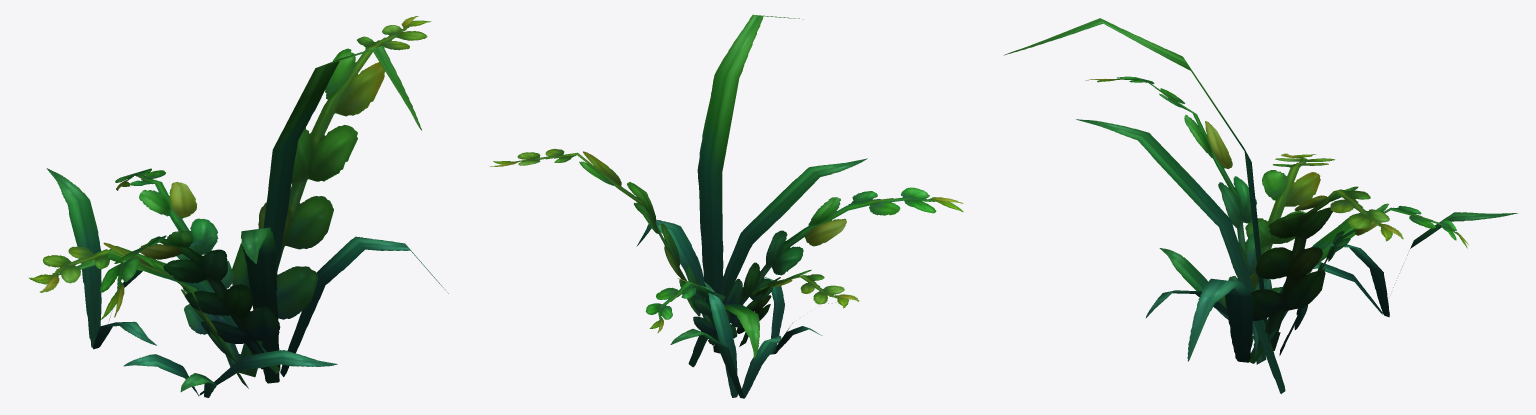
File: taoyuanzhen_huacao_14.FBX
The picture shows the model from 3 angles, left to right: view 1: azimuth 30°, elevation 25°; view 2: azimuth 150°, elevation 25°; view 3: azimuth 270°, elevation 25°; orthographic projection. The views are drawn at different scales.
Parts seen in each view (by area): view 1: taoyuanzhen_huacao_14; view 2: taoyuanzhen_huacao_14; view 3: taoyuanzhen_huacao_14.
Part boxes in pixels (x1=…): taoyuanzhen_huacao_14: x1=29, y1=16, x2=448, y2=397; taoyuanzhen_huacao_14: x1=490, y1=14, x2=963, y2=398; taoyuanzhen_huacao_14: x1=1004, y1=18, x2=1518, y2=393.
Bounding box in the file's own units: 204 × 157 × 194.
